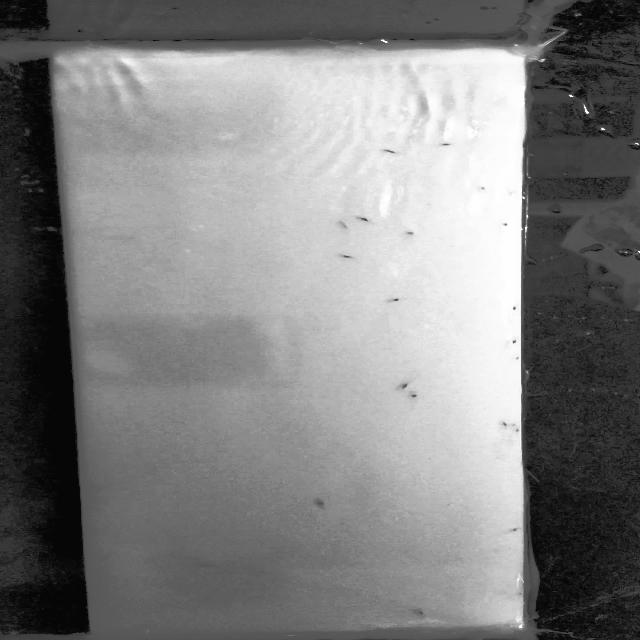shrimp: (328, 215, 352, 228), (190, 560, 224, 568), (383, 294, 408, 304), (408, 388, 432, 398), (379, 146, 400, 156), (314, 497, 330, 509), (408, 606, 427, 616), (338, 252, 356, 262), (495, 218, 510, 230), (394, 381, 411, 390), (351, 214, 372, 221), (510, 523, 524, 532), (399, 231, 423, 236), (438, 141, 453, 149), (507, 304, 521, 312), (508, 351, 522, 359), (470, 184, 486, 190), (505, 337, 519, 343), (501, 417, 508, 425)
